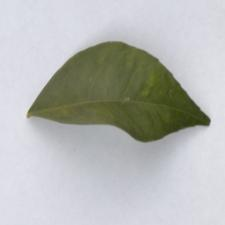Healthy: (43, 37, 185, 160)
